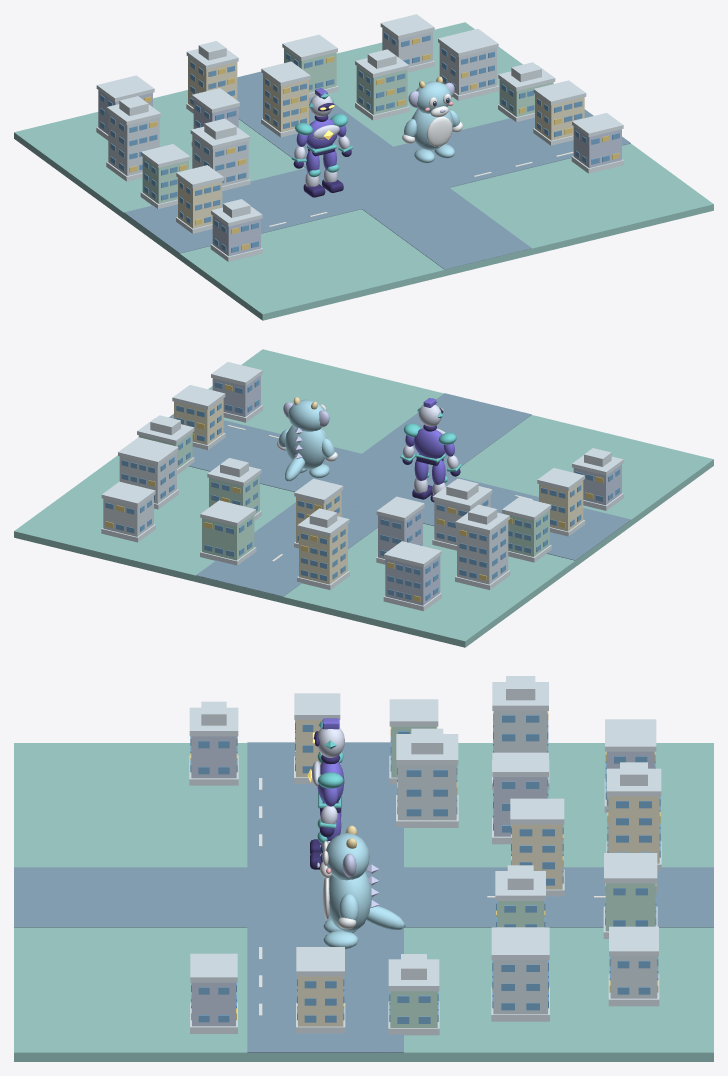
Rendered from star-cloud-dawn.glb.
3 views of the same model, one above another, from view 1: azimuth 30°, elevation 25°; view 2: azimuth 150°, elevation 25°; view 3: azimuth 270°, elevation 25° (orthographic). The views are drawn at different scales.
Visible parts, largest first — view 1: Ground, CentralRoad, CrossRoad, BuildingModule_05, BuildingModule_01, BuildingModule_04, BuildingModule_13, BuildingModule_03, BuildingModule_15, BuildingModule_10, BuildingModule_14, BuildingModule_11 (+10 smaller); view 2: Ground, CentralRoad, CrossRoad, BuildingModule_01, BuildingModule_07, BuildingModule_06, BuildingModule_08, BuildingModule_05, BuildingModule_09, BuildingModule_12, BuildingModule_15, BuildingModule_11 (+10 smaller); view 3: Ground, CentralRoad, CrossRoad, BuildingModule_13, BuildingModule_05, BuildingModule_07, BuildingModule_03, BuildingModule_15, BuildingModule_01, BuildingModule_09, BuildingModule_16, BuildingModule_10 (+11 smaller).
Boxes of the visible parts, left/top/right/bottom form: Ground: left=14, top=22, right=713, bottom=320; CentralRoad: left=124, top=109, right=630, bottom=253; CrossRoad: left=237, top=71, right=531, bottom=269; BuildingModule_05: left=438, top=29, right=498, bottom=100; BuildingModule_01: left=106, top=96, right=161, bottom=181; BuildingModule_04: left=355, top=49, right=409, bottom=120; BuildingModule_13: left=190, top=118, right=250, bottom=190; BuildingModule_03: left=261, top=61, right=310, bottom=137; BuildingModule_15: left=533, top=80, right=586, bottom=145; BuildingModule_10: left=210, top=199, right=262, bottom=261; BuildingModule_14: left=571, top=113, right=623, bottom=173; BuildingModule_11: left=176, top=165, right=223, bottom=233; Ground: left=14, top=349, right=713, bottom=647; CentralRoad: left=169, top=414, right=630, bottom=560; CrossRoad: left=196, top=393, right=531, bottom=596; BuildingModule_01: left=455, top=504, right=510, bottom=589; BuildingModule_07: left=297, top=508, right=349, bottom=589; BuildingModule_06: left=383, top=541, right=441, bottom=611; BuildingModule_08: left=200, top=500, right=256, bottom=565; BuildingModule_05: left=118, top=437, right=178, bottom=509; BuildingModule_09: left=101, top=481, right=155, bottom=542; BuildingModule_12: left=502, top=497, right=551, bottom=562; BuildingModule_15: left=172, top=385, right=225, bottom=450; BuildingModule_11: left=537, top=468, right=585, bottom=536; Ground: left=14, top=743, right=713, bottom=1061; CentralRoad: left=247, top=742, right=403, bottom=1052; CrossRoad: left=14, top=867, right=713, bottom=927; BuildingModule_13: left=396, top=728, right=458, bottom=827; BuildingModule_05: left=491, top=927, right=549, bottom=1021; BuildingModule_07: left=606, top=762, right=661, bottom=870; BuildingModule_03: left=510, top=798, right=564, bottom=896; BuildingModule_15: left=296, top=947, right=345, bottom=1033; BuildingModule_01: left=492, top=676, right=549, bottom=789; BuildingModule_09: left=608, top=926, right=659, bottom=1006; BuildingModule_16: left=388, top=954, right=439, bottom=1035; BuildingModule_10: left=189, top=701, right=238, bottom=785.
Size of the model in its own units: 22 by 4.93 by 21.
